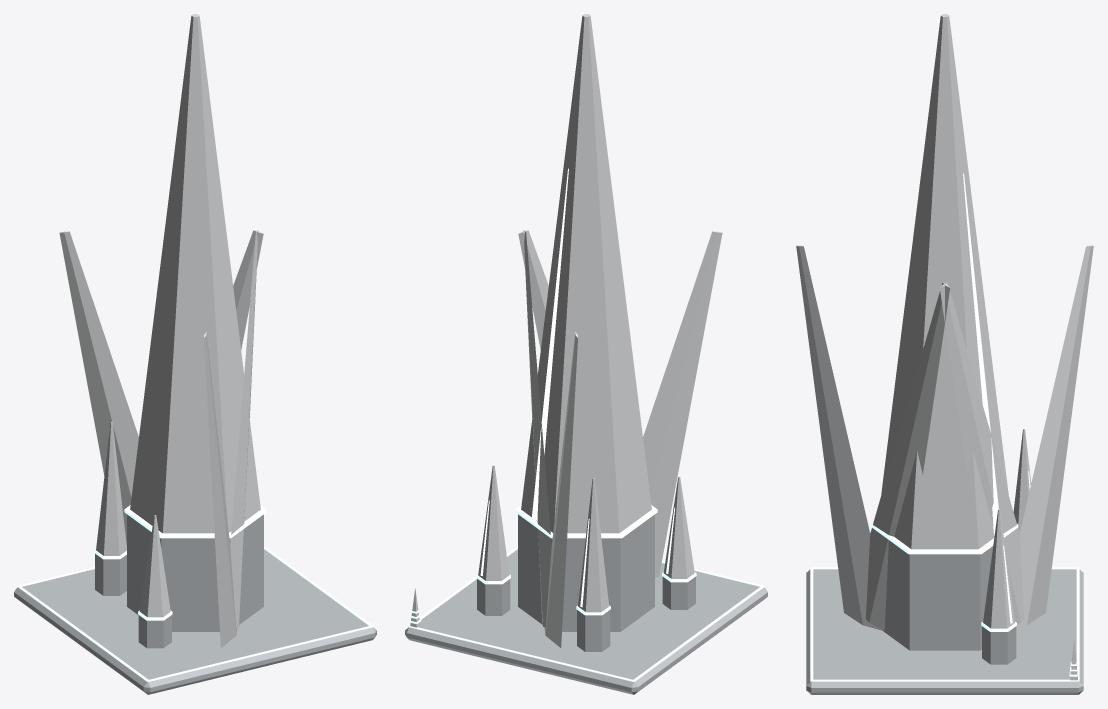
File: zone_high_4_t3.glb
3 views of the same model, side by side, from view 1: azimuth 30°, elevation 25°; view 2: azimuth 150°, elevation 25°; view 3: azimuth 270°, elevation 25° (orthographic). The views are drawn at different scales.
Visible parts, largest first — view 1: zone_high_4_t3, detail; view 2: zone_high_4_t3, detail; view 3: zone_high_4_t3, detail.
Part boxes in pixels (x1,y1,x2,y2): zone_high_4_t3: (14,14,376,694); detail: (17,546,373,681); zone_high_4_t3: (405,14,767,694); detail: (408,546,764,681); zone_high_4_t3: (796,14,1093,694); detail: (810,567,1079,681).
Bounding box in the file's own units: 27.5 × 69.4 × 29.51.
